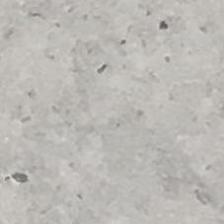Non_Crack: (22, 25, 217, 200)
